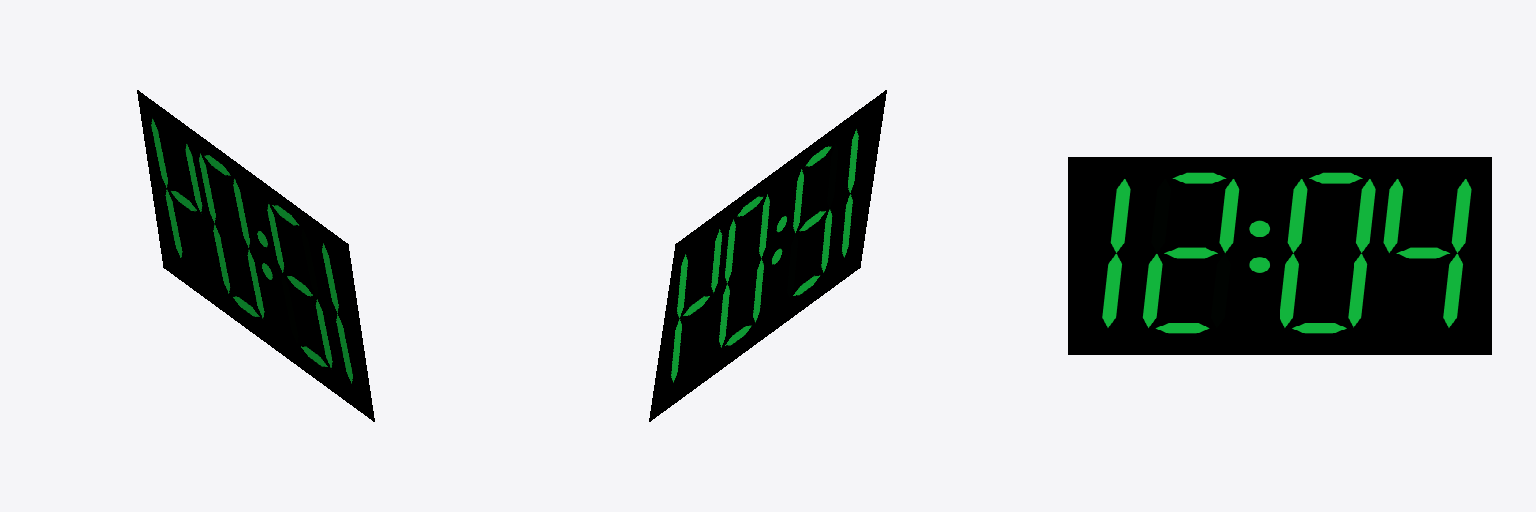
3 renders of one model, left to right at view 1: azimuth 30°, elevation 25°; view 2: azimuth 150°, elevation 25°; view 3: azimuth 270°, elevation 25°, orthographic.
Parts seen in each view (by area): view 1: stove_Torus.001; view 2: stove_Torus.001; view 3: stove_Torus.001.
Boxes of the visible parts, x1,y1,x2,y2 form: stove_Torus.001: [137, 90, 374, 421]; stove_Torus.001: [649, 90, 886, 421]; stove_Torus.001: [1068, 157, 1491, 354].
Size of the model in its own units: 0.021 by 0.139 by 0.288.
1 materials, 1 textured.